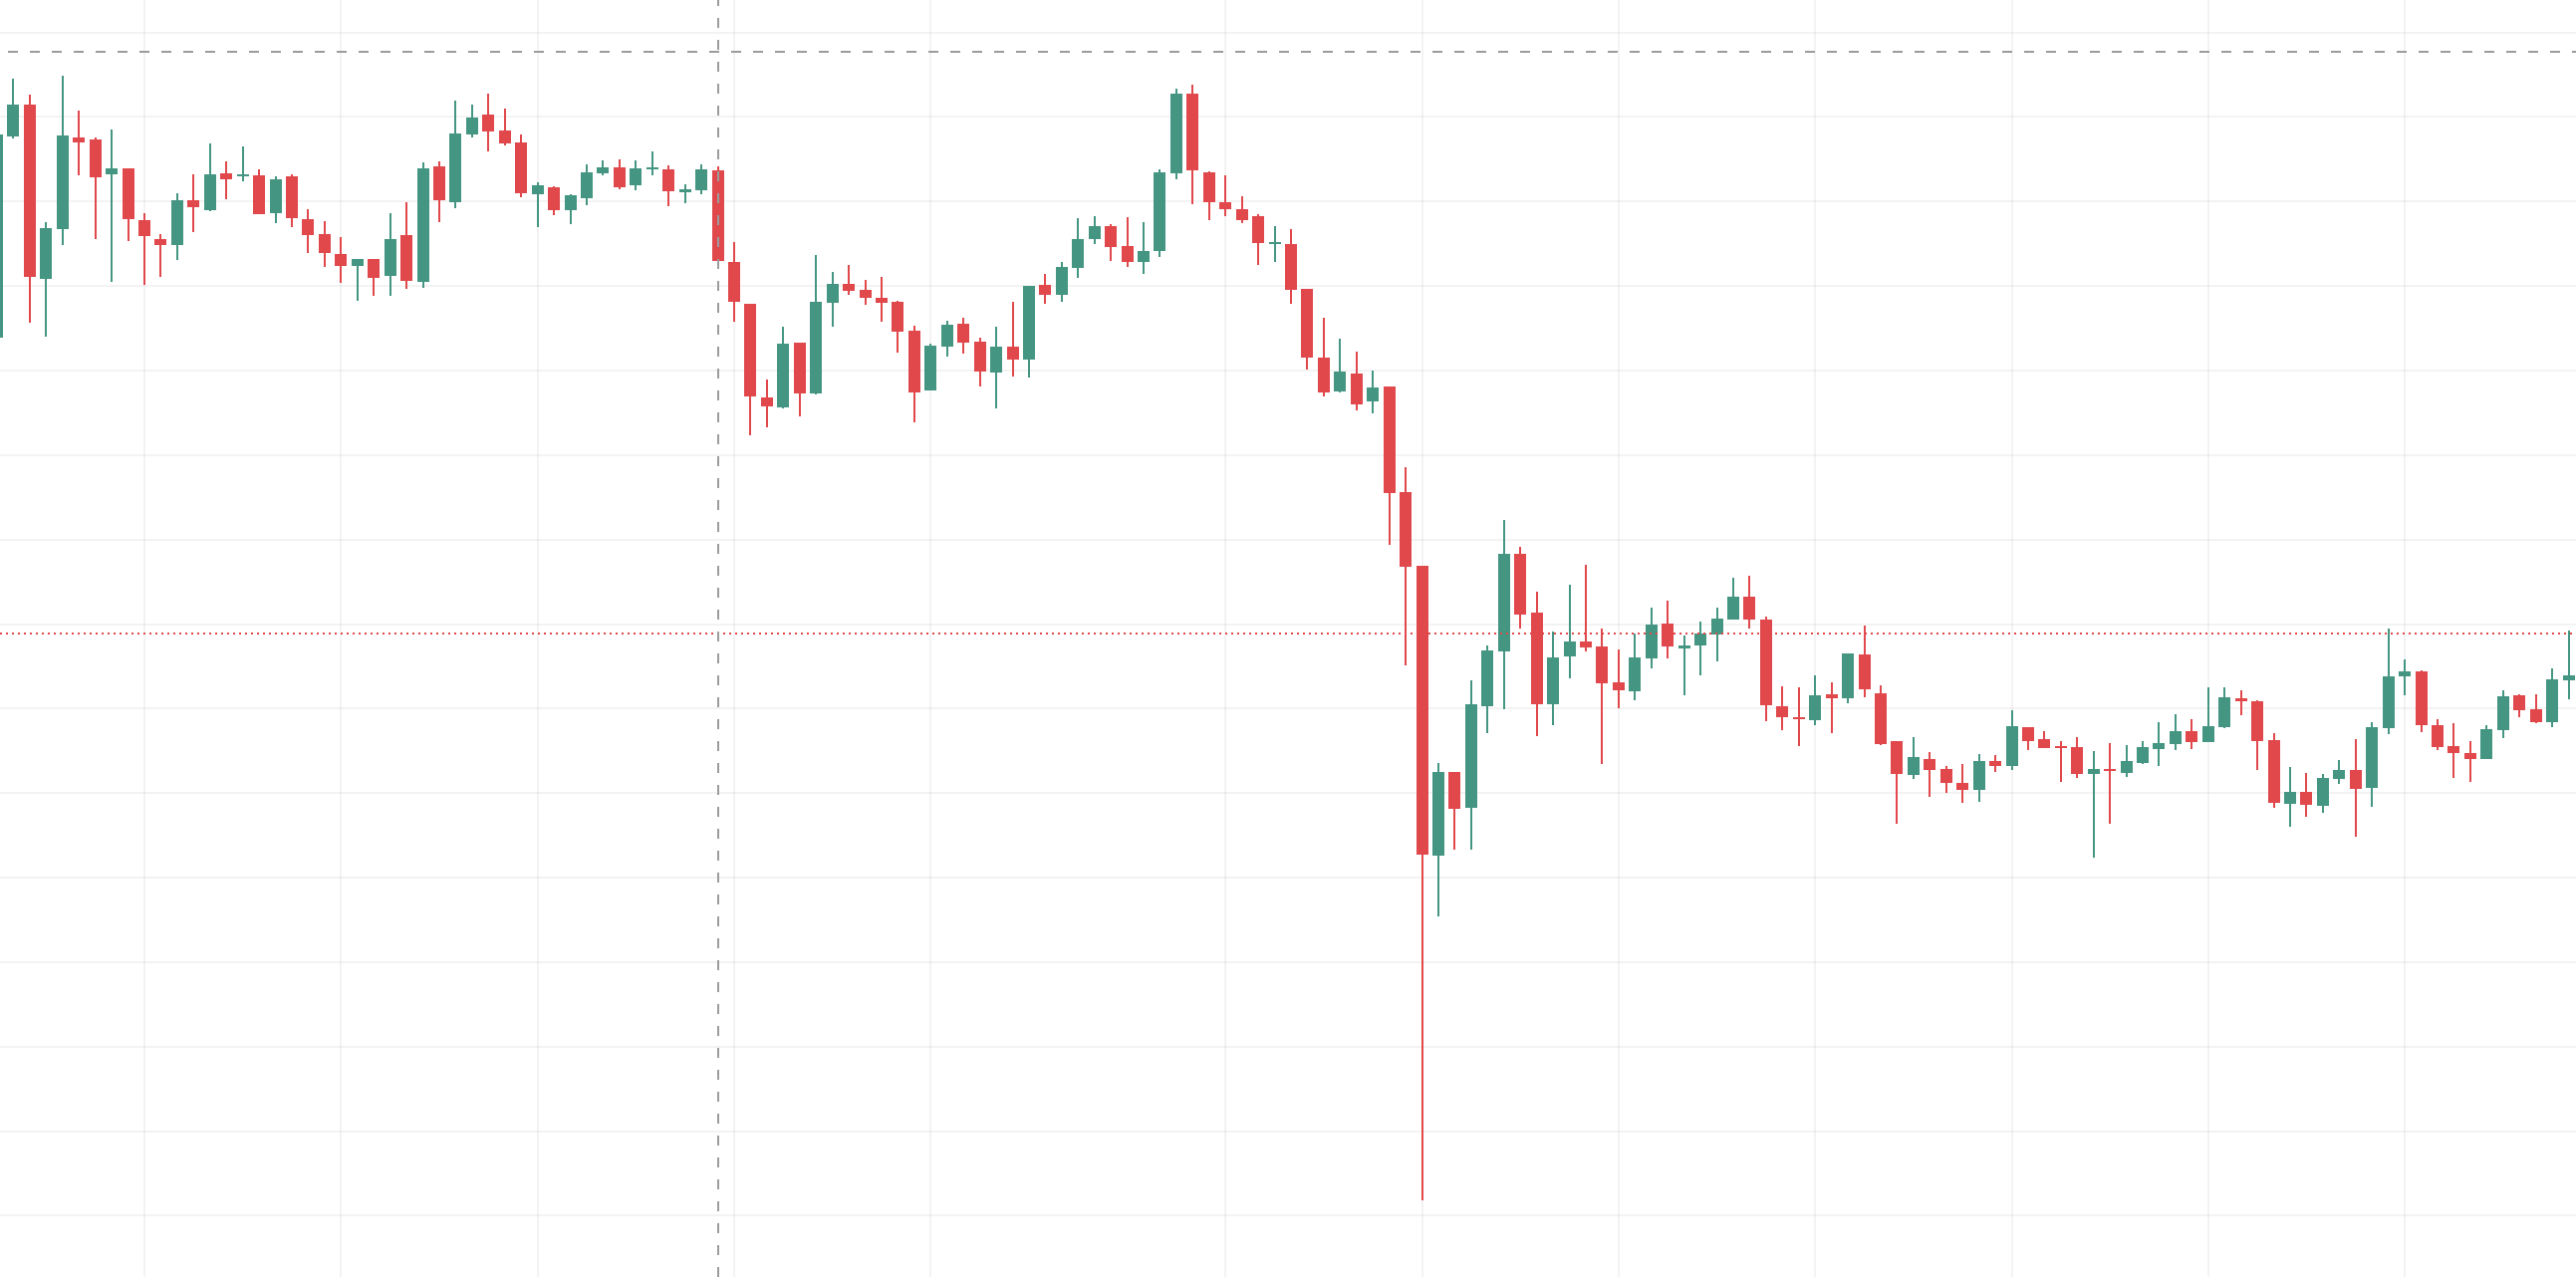V-turn: (657, 101, 845, 432)
